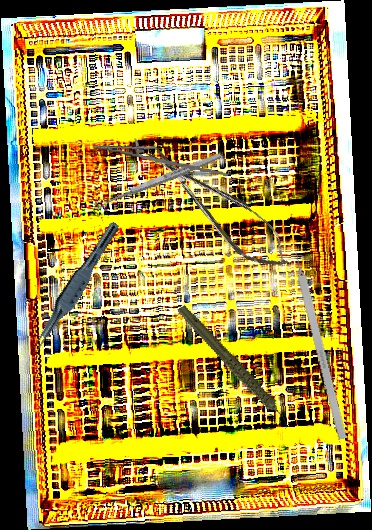Handpiece: (175, 288, 292, 448)
Hook Surgical: (288, 236, 347, 441)
Micro Scissor: (137, 128, 299, 283)
Needle Holder: (90, 134, 231, 177)
Surgical Spoon: (92, 151, 223, 211)
Tissue Forceps: (28, 216, 121, 358)
